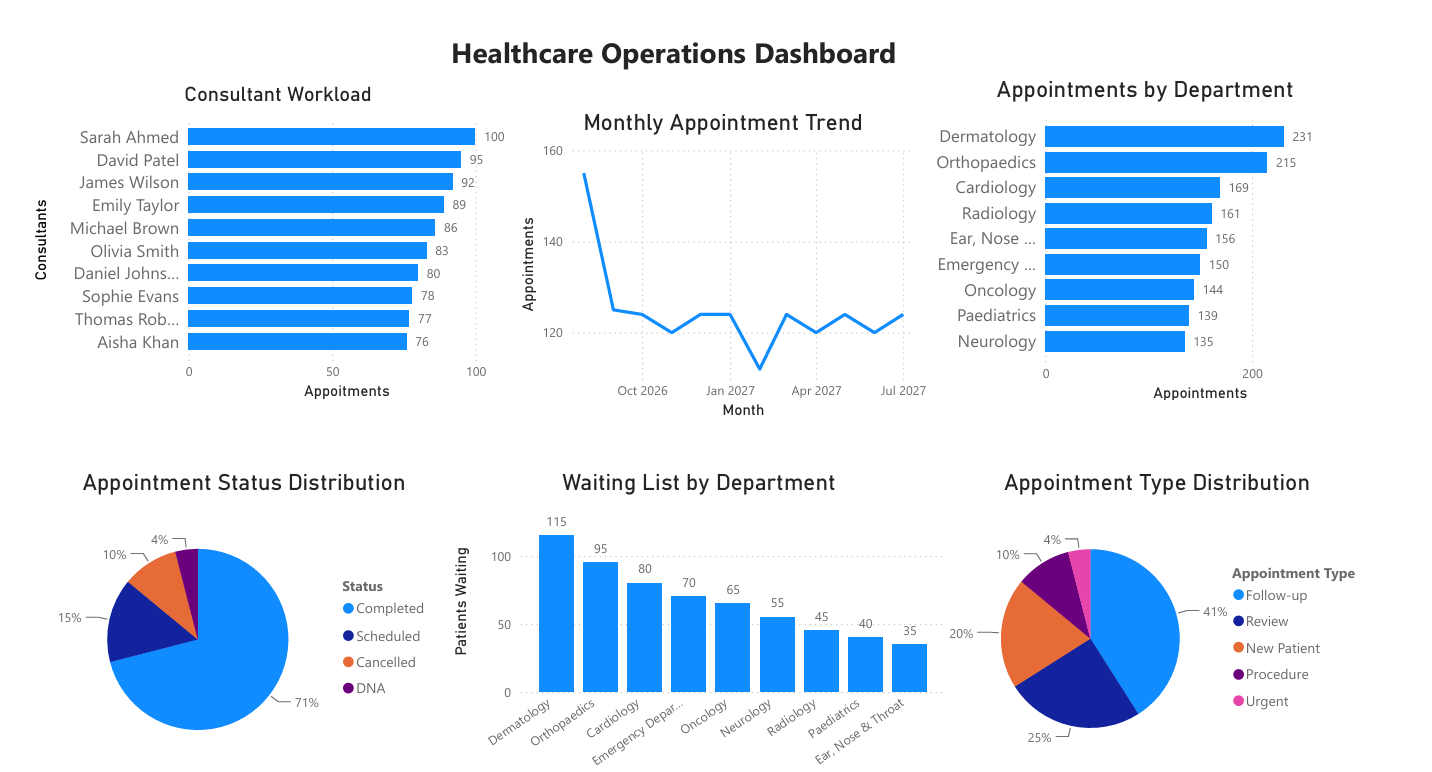

Layout of this report page (visuals, bound fields, positions):
{"tool":"powerbi","page":{"name":"Page 1","canvas":[1280,720],"ordinal":0},"visuals":[{"type":"clusteredBarChart","title":"Appointments by Department","fields":{"Category":["vw_AppointmentSummary.DepartmentName"],"Y":["CountNonNull(vw_AppointmentSummary.AppointmentID)"]},"box":[850,46.7,430,313.3],"z":0},{"type":"clusteredBarChart","title":"Consultant Workload","fields":{"Category":["vw_ConsultantWorkload.ConsultantName"],"Y":["Sum(vw_ConsultantWorkload.TotalAppointments)"]},"box":[0,53.3,478.3,306.7],"z":1000},{"type":"clusteredColumnChart","title":"Waiting List by Department","fields":{"Category":["vw_WaitingListSummary.DepartmentName"],"Y":["CountNonNull(vw_WaitingListSummary.WaitingListID)"]},"box":[400,421.7,480,296.7],"z":2000},{"type":"textbox","box":[322.9,0,510,52.9],"z":3000},{"type":"pieChart","title":"Appointment Type Distribution","fields":{"Category":["vw_AppointmentSummary.AppointmentType"],"Y":["CountNonNull(vw_AppointmentSummary.AppointmentID)"]},"box":[873.3,421.7,406.7,296.7],"z":4000},{"type":"pieChart","title":"Appointment Status Distribution","fields":{"Category":["vw_AppointmentSummary.AppointmentStatus"],"Y":["CountNonNull(vw_AppointmentSummary.AppointmentID)"]},"box":[20,421.7,373.3,298.3],"z":5000},{"type":"lineChart","title":"Monthly Appointment Trend","fields":{"Category":["vw_MonthlyAppointmentTrend.MonthStartDate"],"Y":["Sum(vw_MonthlyAppointmentTrend.TotalAppointments)"]},"box":[464.3,78.6,397.1,298.6],"z":6000}]}

Visuals, with their boxes on the page's 1280x720 design canvas (x1, y1, x2, y2). These are canvas units, not pixel positions in the 1432x772 screenshot, which may show the page scaled, cropped or inside an application window:
"Appointments by Department" clusteredBarChart: 850,47,1280,360
"Consultant Workload" clusteredBarChart: 0,53,478,360
"Waiting List by Department" clusteredColumnChart: 400,422,880,718
textbox: 323,0,833,53
"Appointment Type Distribution" pieChart: 873,422,1280,718
"Appointment Status Distribution" pieChart: 20,422,393,720
"Monthly Appointment Trend" lineChart: 464,79,861,377
